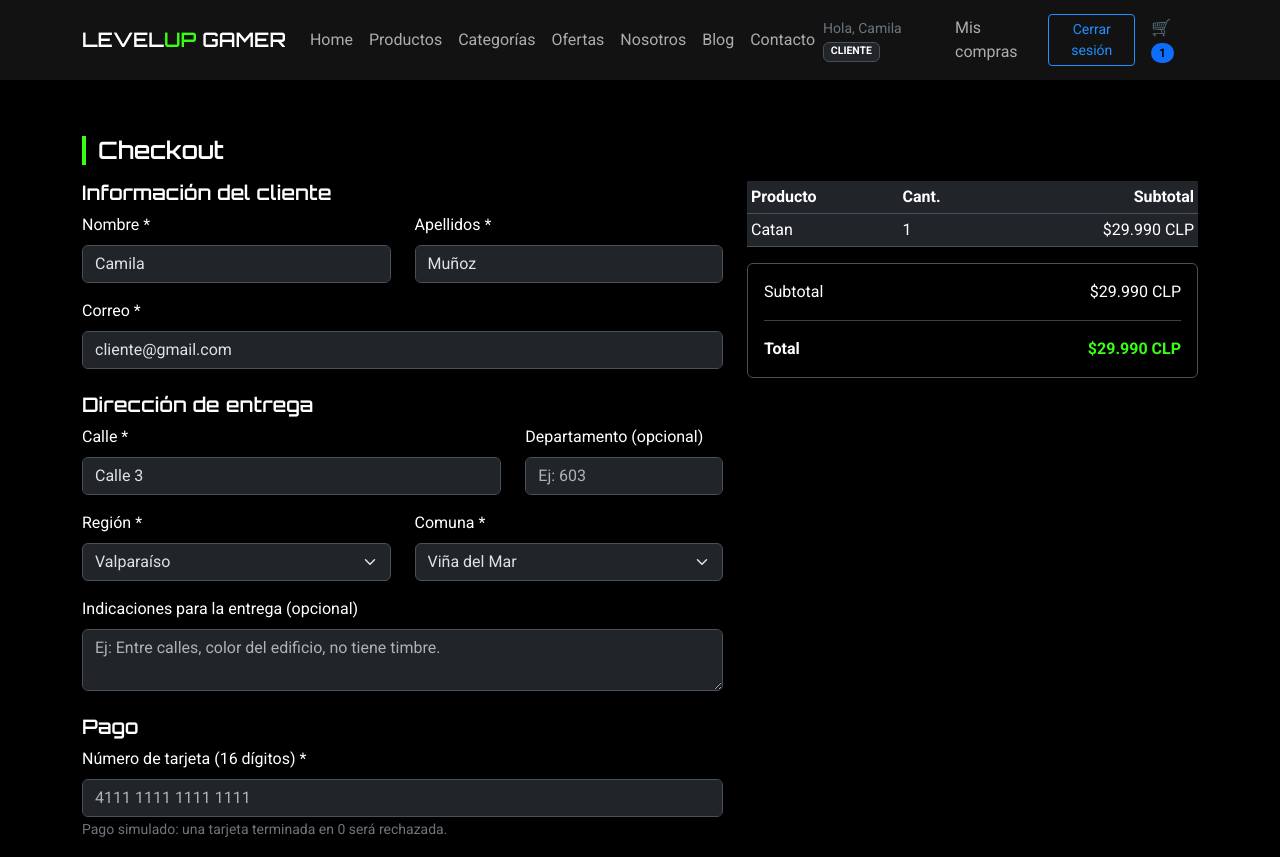
Test case: Checkout contra la API › compra aprobada: envía solo código y cantidad, muestra la boleta y vacía el carrito
Type "4111111111111111" into the field labelled "Número de tarjeta (16 dígitos) *". click: (402, 798)
box: left=82, top=779, right=723, bottom=817
(page scrolled)
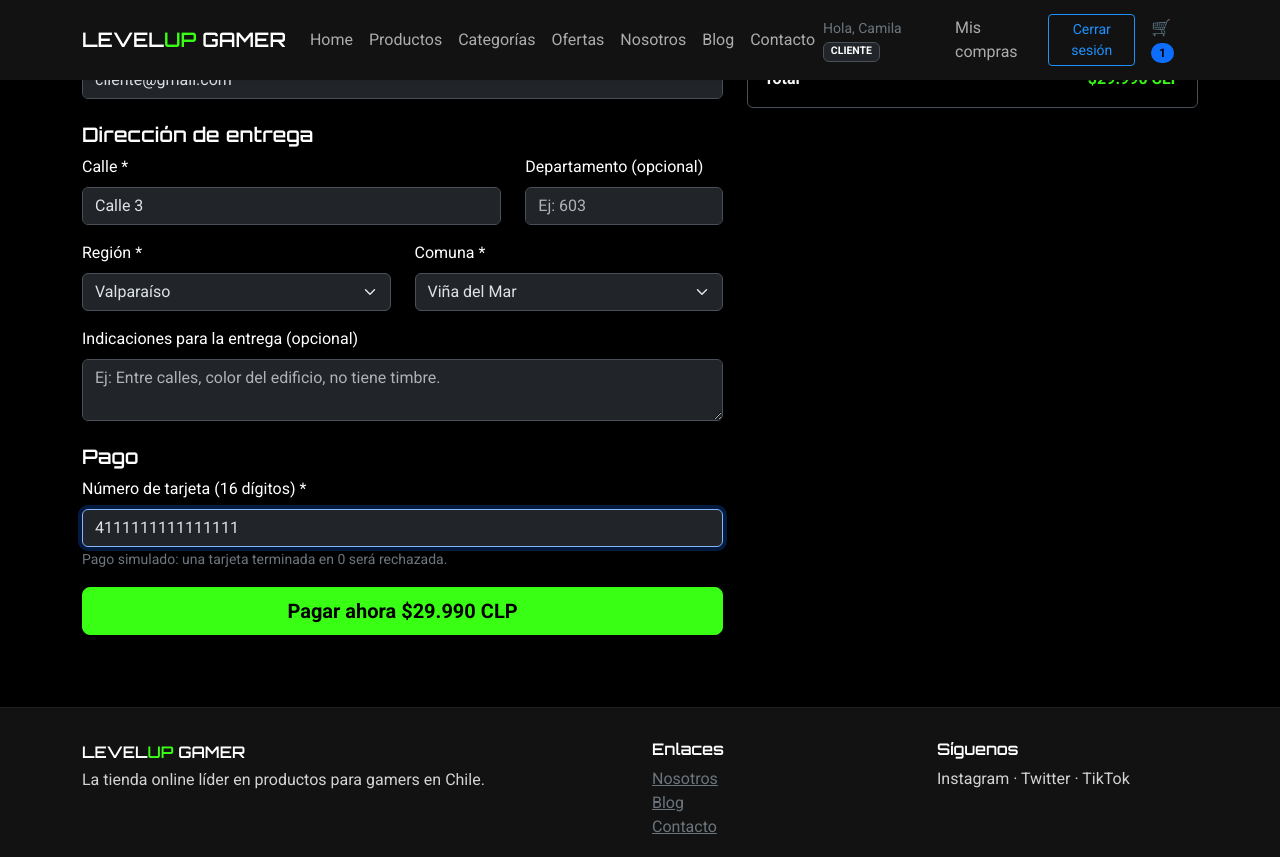
Click the button "Pagar ahora $29.990 CLP". click: (402, 611)
box: left=82, top=587, right=723, bottom=635
(page scrolled)
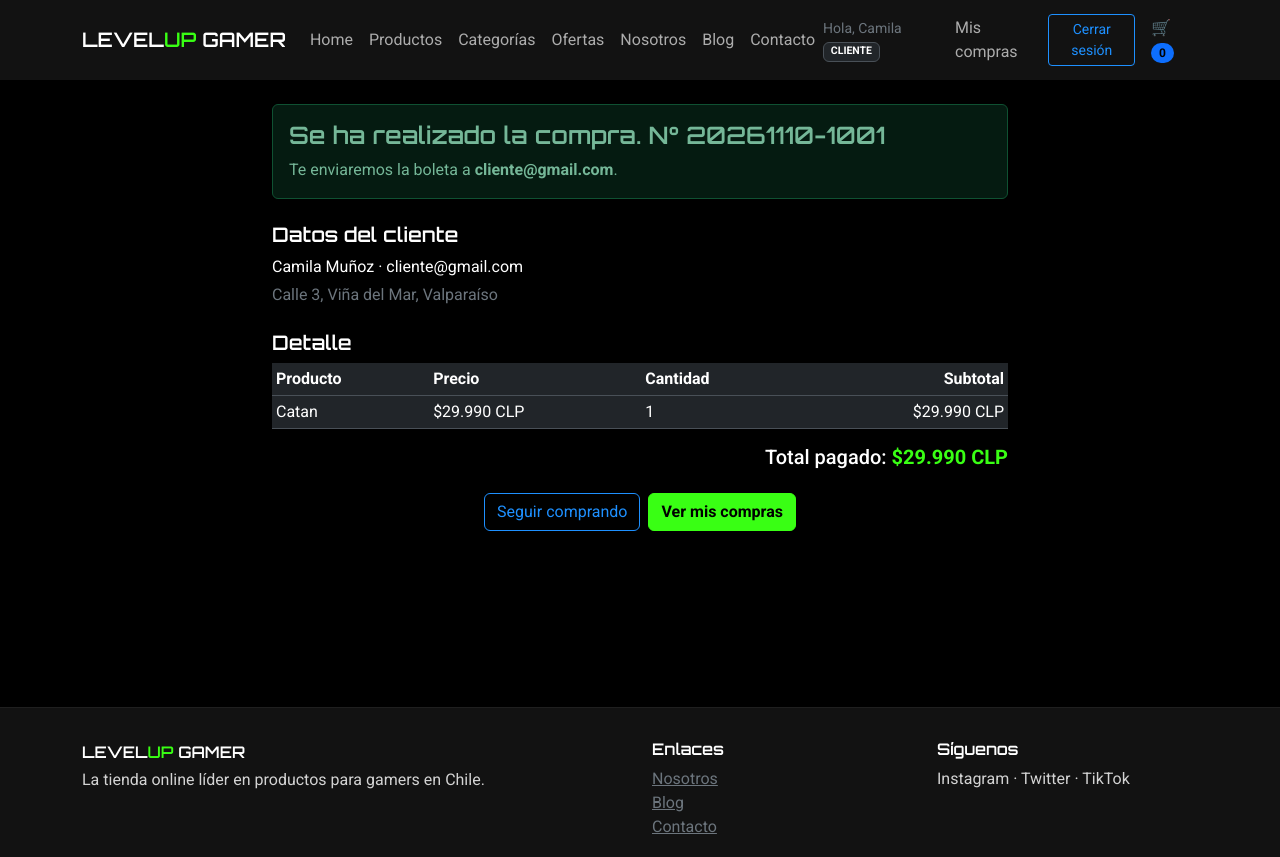
Expected: the heading "Se ha realizado la compra. N° 20261110-1001" is shown, left=289, top=120, right=885, bottom=150
Expected: the text "Total pagado: $29.990 CLP" is shown, left=765, top=445, right=1008, bottom=469
Expected: the text with test id "contador-carrito" reads "0", left=1159, top=46, right=1166, bottom=60
